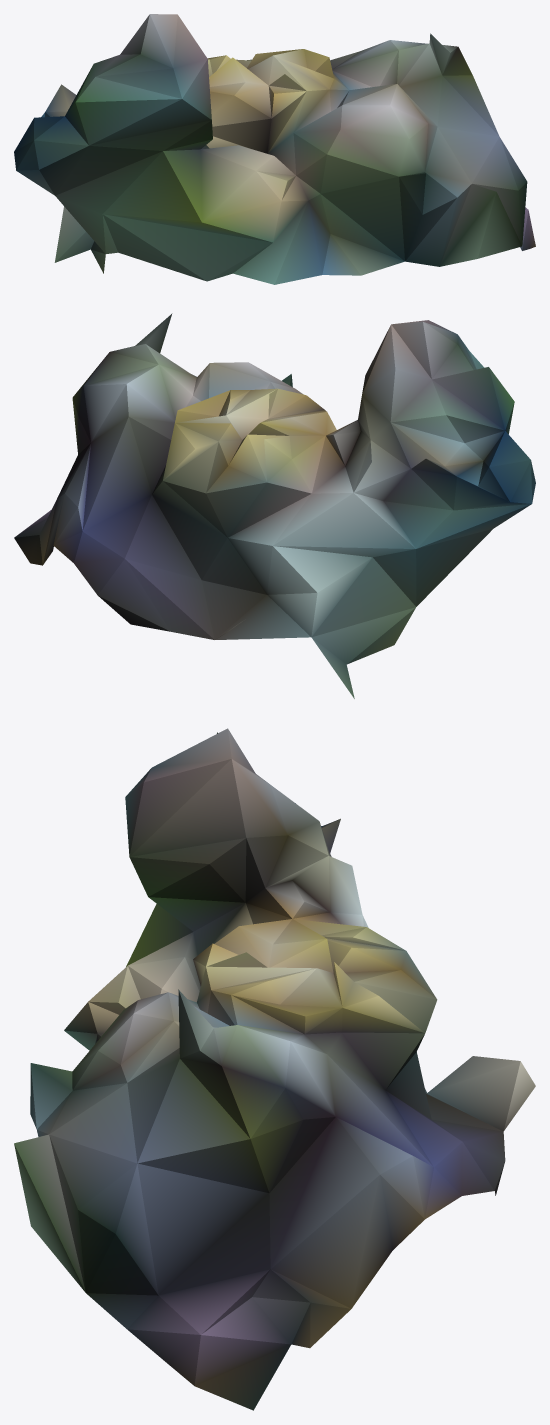
The model's file is brain1_lo.glb.
3 renders of one model, top to bottom at view 1: azimuth 30°, elevation 25°; view 2: azimuth 150°, elevation 25°; view 3: azimuth 270°, elevation 25°, orthographic. The views are drawn at different scales.
Parts seen in each view (by area): view 1: brain1; view 2: brain1; view 3: brain1.
Boxes of the visible parts, left/top/right/bottom form: brain1: left=14, top=14, right=535, bottom=284; brain1: left=14, top=313, right=535, bottom=698; brain1: left=14, top=728, right=535, bottom=1410.
Bounding box in the file's own units: 1.37 × 0.8579 × 0.9313.
